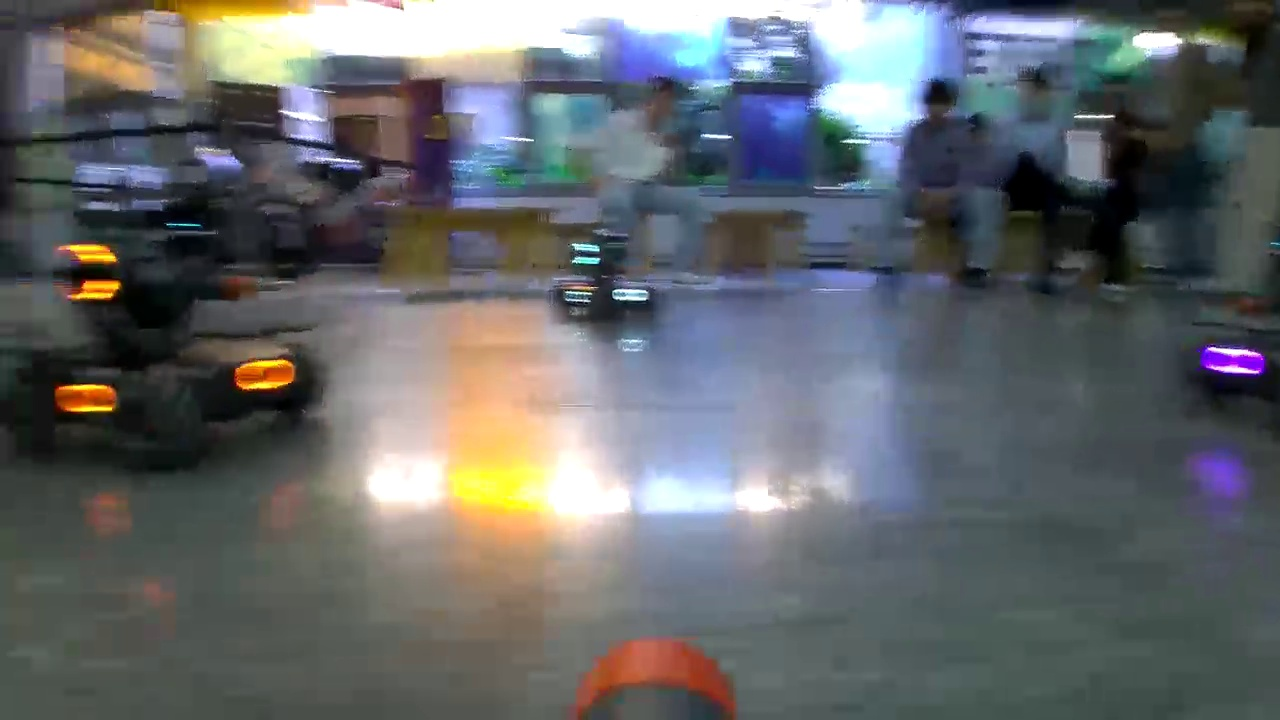robot: (1, 240, 322, 470), (1182, 243, 1280, 402), (552, 225, 655, 322)
